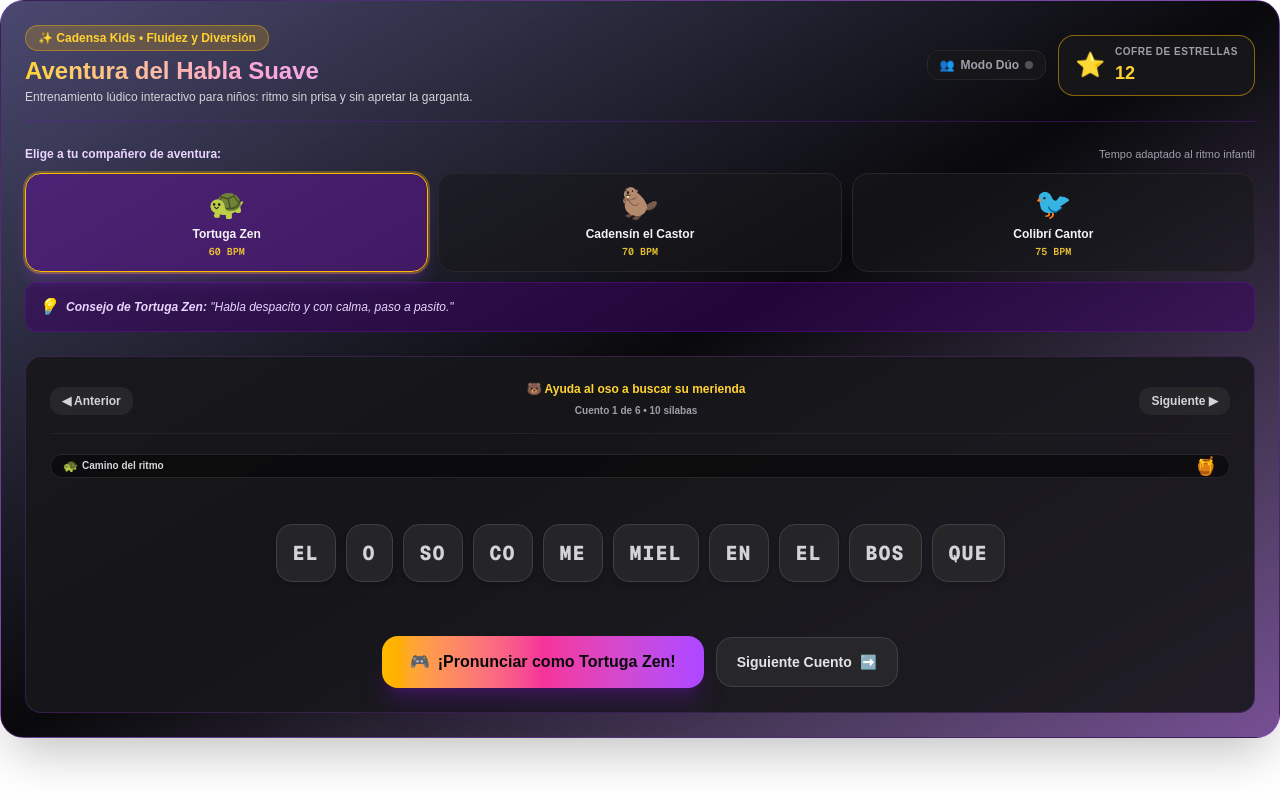
Test: PediatricFluencyTrainer Component › debe cambiar de desafío al hacer clic en Siguiente Cuento y Anterior Cuento
Expected: the text "🐻 Ayuda al oso a buscar su merienda" is shown, [527,380,746,396]
Click the button "Siguiente Cuento ➡️" at [807, 662], box [716,636,898,686]
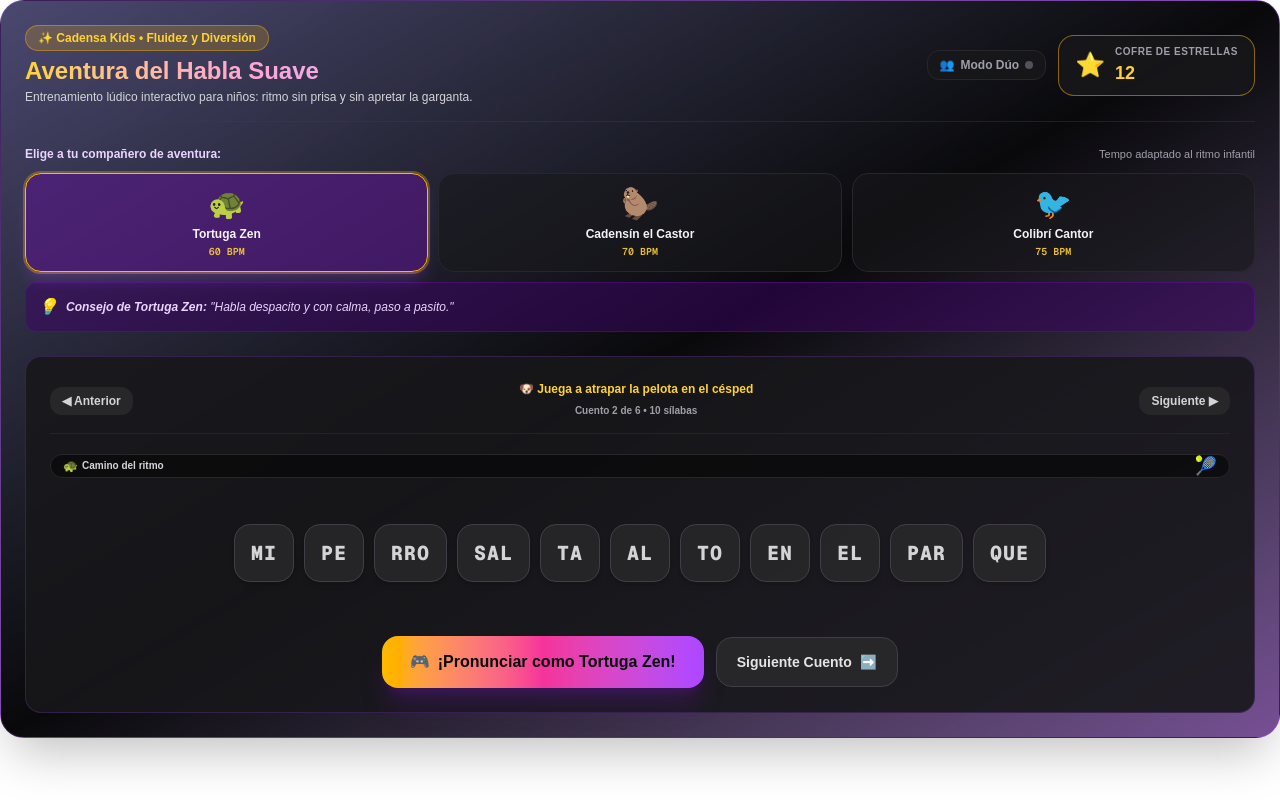
Result: the text "🐶 Juega a atrapar la pelota en el césped" is shown at [519,380,753,396]
Click the button "◀ Anterior" at [91, 400], box [50,386,133,414]
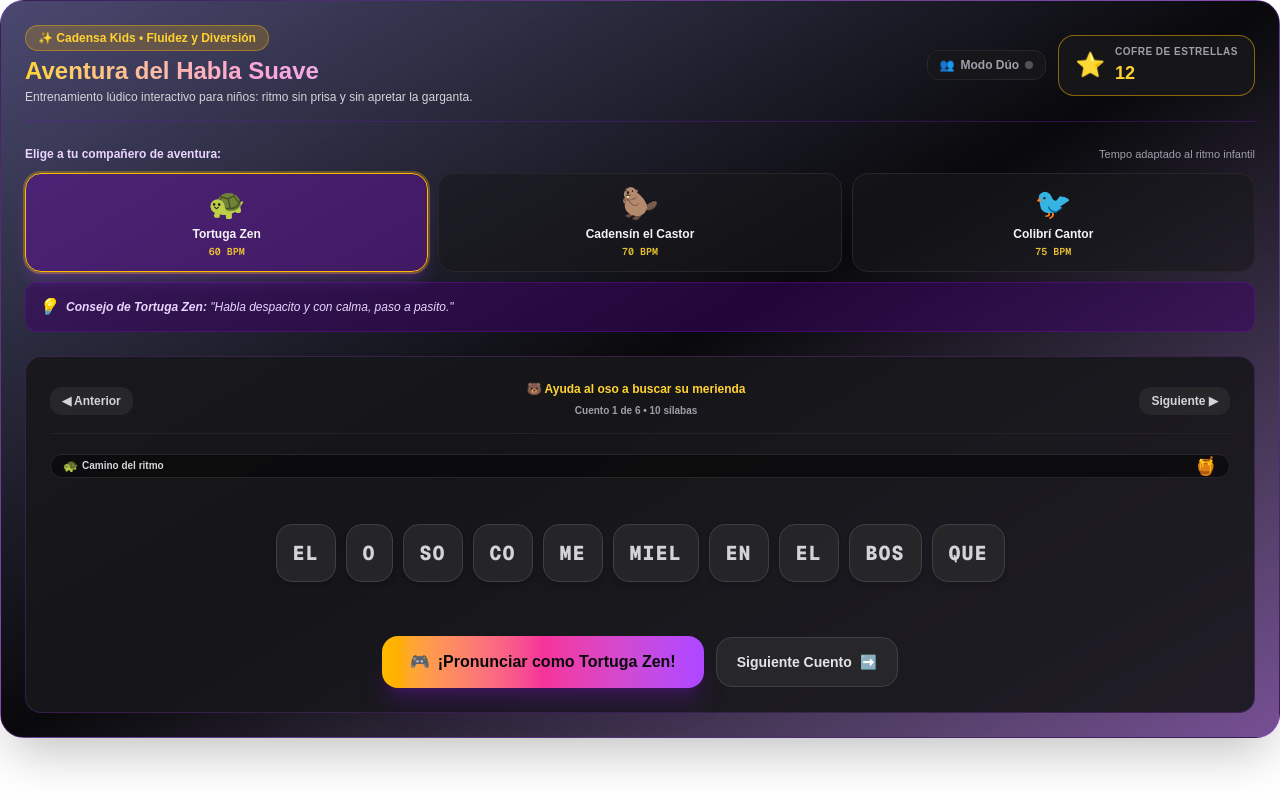
Result: the text "🐻 Ayuda al oso a buscar su merienda" is shown at [527,380,746,396]
